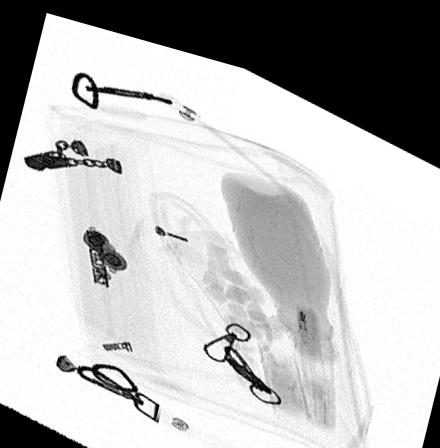Lighter: (152, 214, 227, 249)
